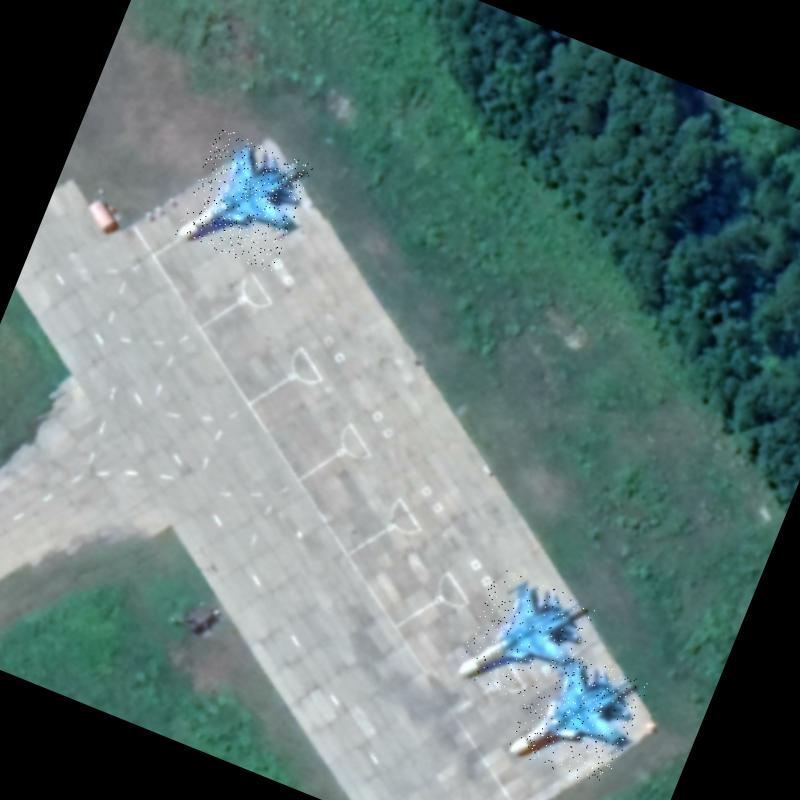A19: (504, 642, 649, 792), (454, 566, 599, 714), (174, 126, 314, 273)
